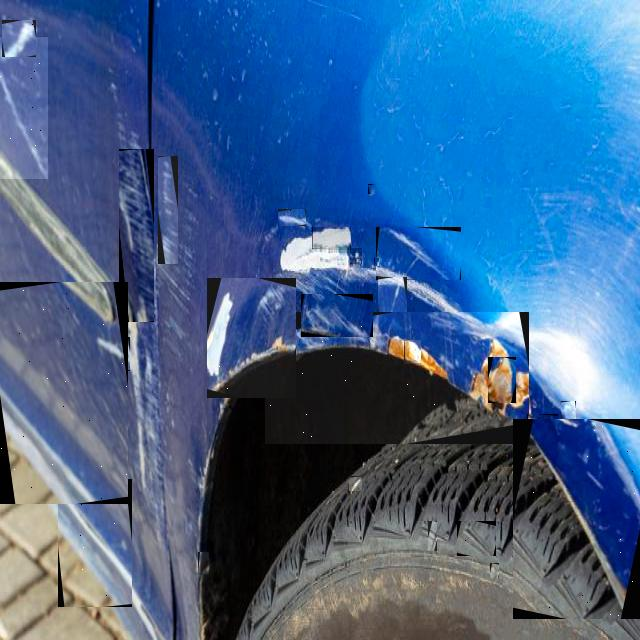Dent: (265, 312, 529, 444), (0, 282, 128, 504), (513, 419, 640, 619), (207, 278, 296, 398), (58, 479, 132, 607), (0, 36, 48, 179), (119, 149, 154, 322), (376, 227, 461, 280), (301, 294, 373, 337), (158, 156, 178, 264), (378, 277, 407, 339), (457, 521, 496, 556), (488, 357, 516, 403), (2, 20, 36, 57), (102, 338, 130, 373), (312, 228, 351, 252), (278, 209, 306, 226), (527, 414, 558, 429), (404, 340, 421, 364), (561, 401, 576, 423), (428, 521, 437, 551), (198, 552, 209, 574), (348, 476, 362, 491), (350, 248, 362, 264), (490, 563, 499, 578), (368, 184, 375, 194), (374, 258, 379, 266)
